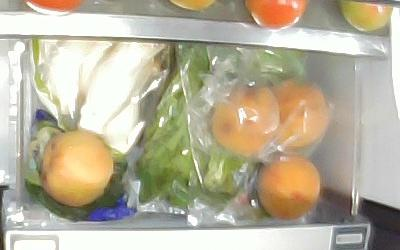peach: (39, 131, 115, 207), (254, 155, 321, 220)
peach_vinyl: (208, 84, 280, 152), (264, 78, 329, 152)
